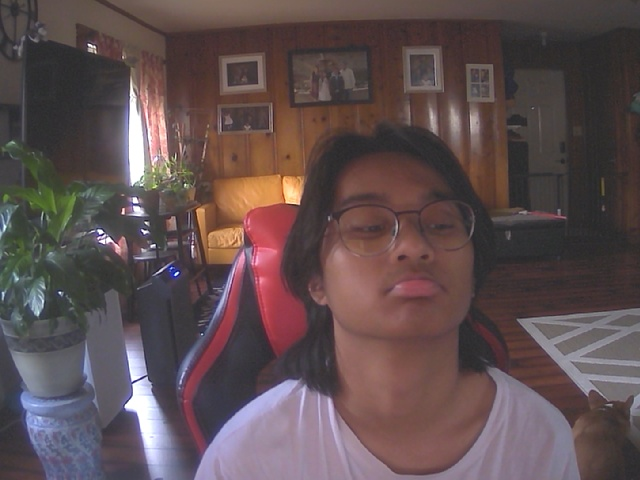sad: (302, 130, 487, 340)
